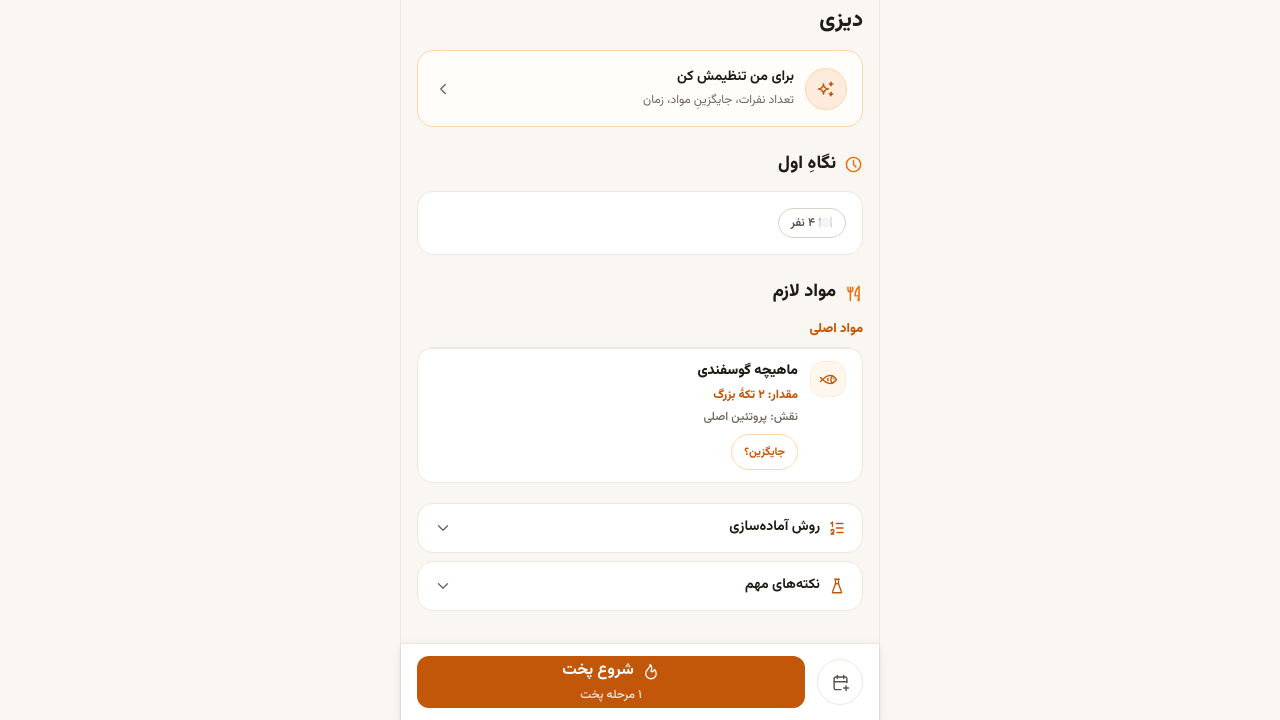
Test case: Recipe Detail — GRIS dish-aware swap sheet (v2.1) › clicking «جایگزین؟» shows the recipe’s own dish-aware swaps first, labeled «پیشنهادِ این دستور»
The width and height of the screenshot is (1280, 720).
(page scrolled)
Click the button with aria-label "جایگزین برای ماهیچه گوسفندی". click: point(765, 452)
box: [731, 434, 798, 470]
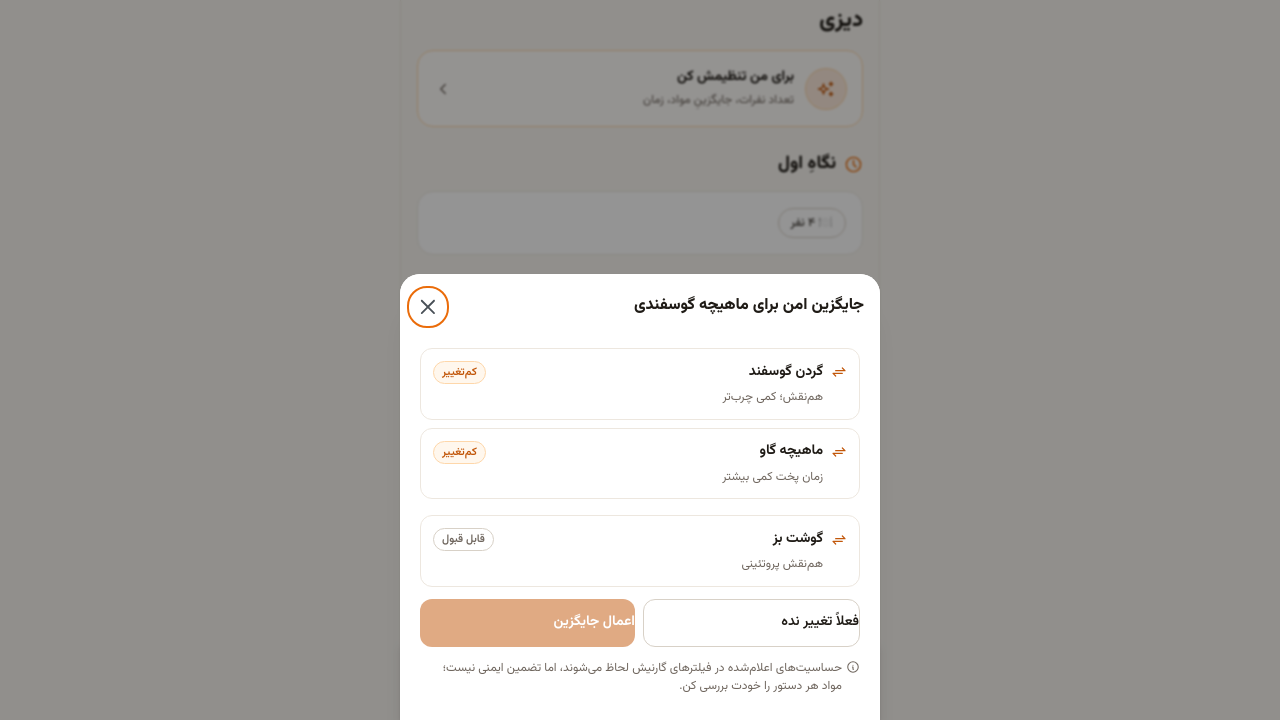
Expected: the text "گردن گوسفند" is shown
Expected: the text "ماهیچه گاو" is shown, [759, 440, 823, 462]
Expected: the 1st text "کم‌تغییر" is shown, [433, 361, 486, 384]
# applying one swaps the ingredient on the recipe
Click the text "گردن گوسفند". click: point(786, 372)
box: [749, 361, 823, 383]
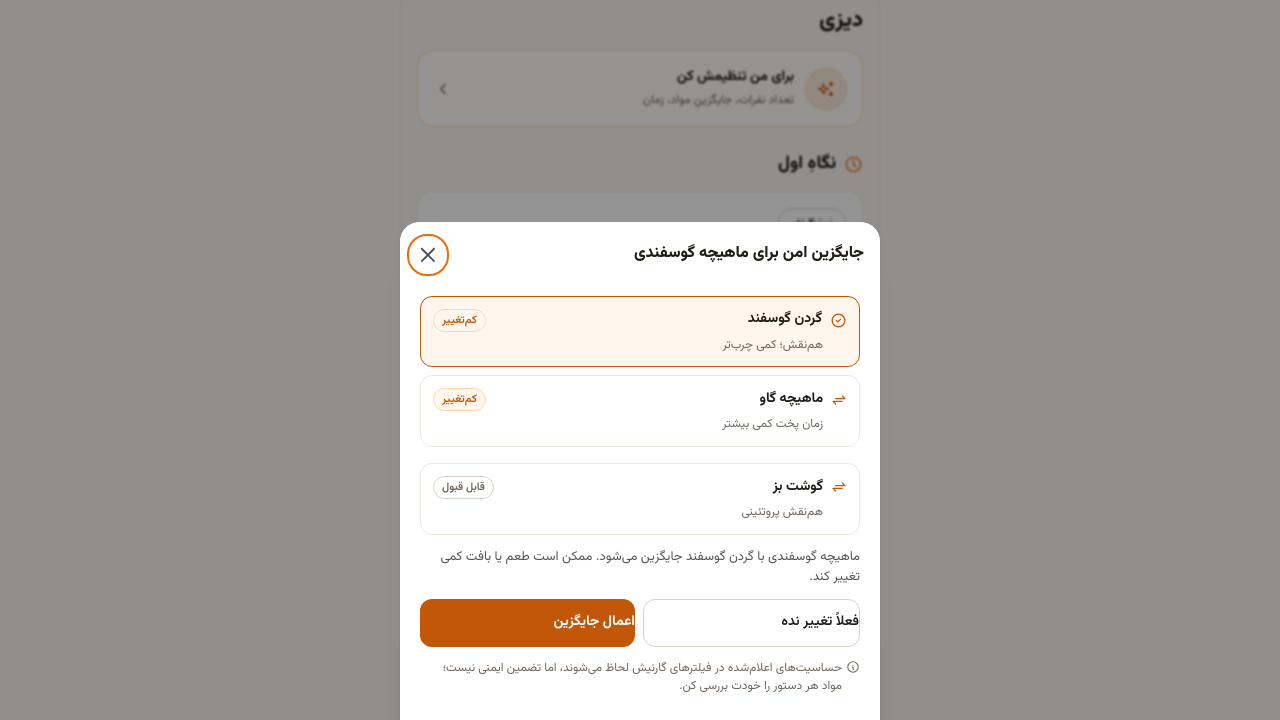
Click the button "اعمال جایگزین". click: point(528, 623)
box: [420, 599, 635, 647]
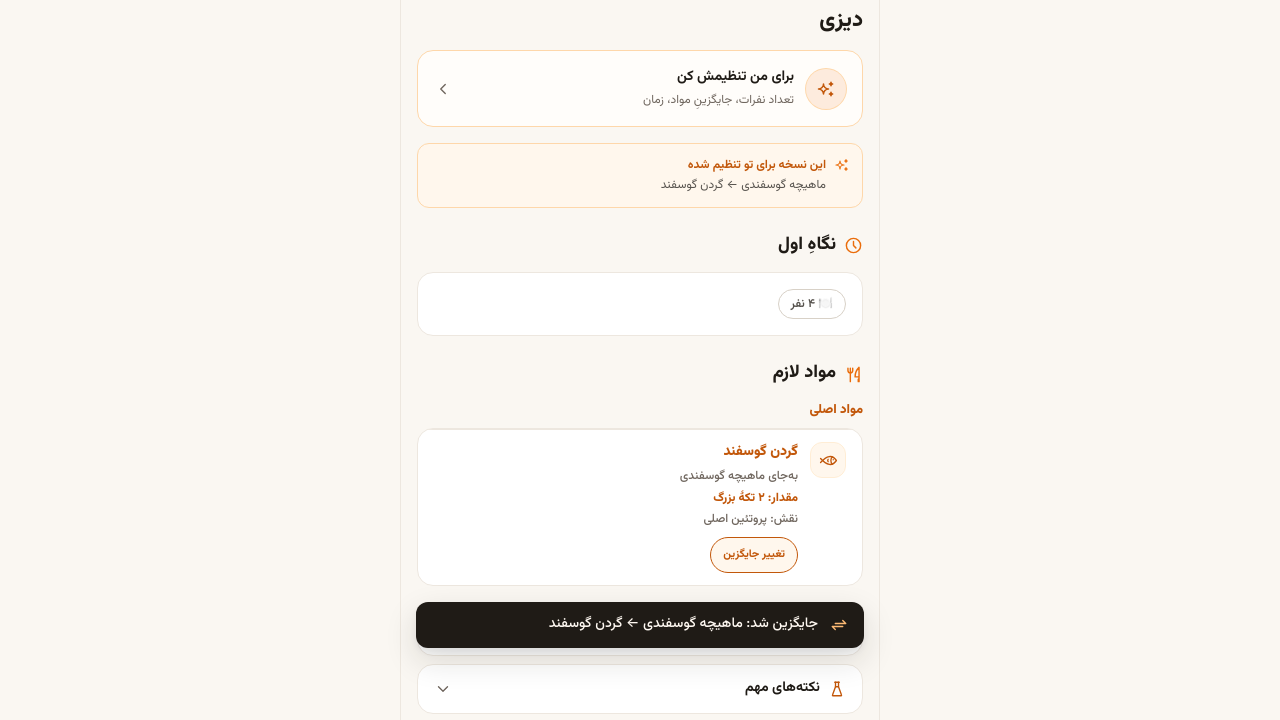
Expected: the text "جایگزین شد: ماهیچه گوسفندی ← گردن گوسفند" is shown, [549, 613, 818, 635]
